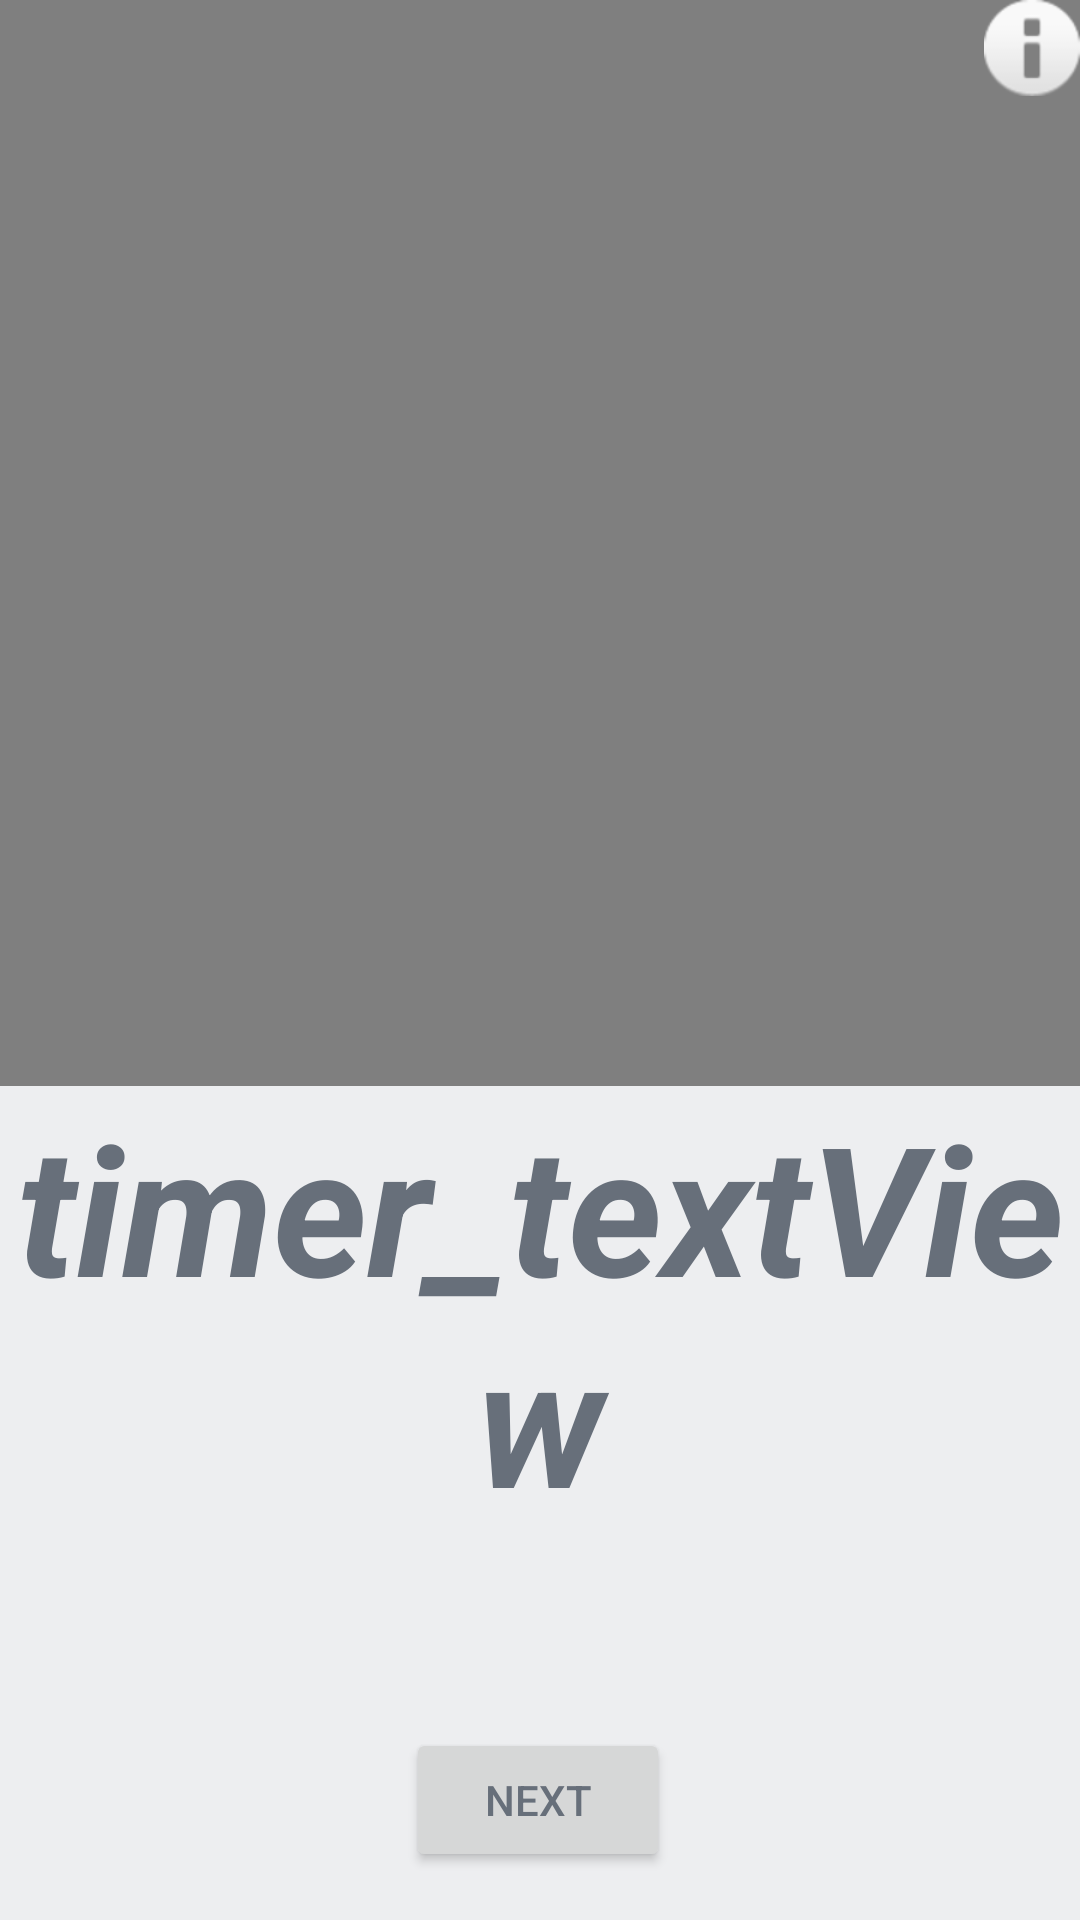

Where to tap for icons on this 1080px x 1920px app screen, as (x,y):
About: (1032,48)
